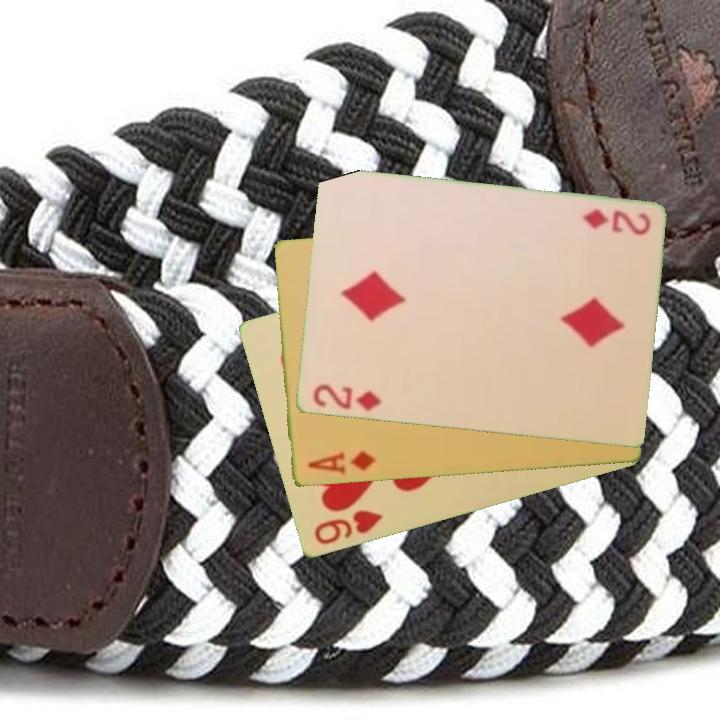2d: (579, 205, 653, 239), (309, 381, 384, 414)
9h: (310, 506, 385, 548)
Ad: (304, 448, 378, 478)
